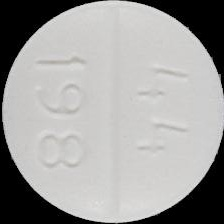21130-198: (0, 0, 224, 224)
